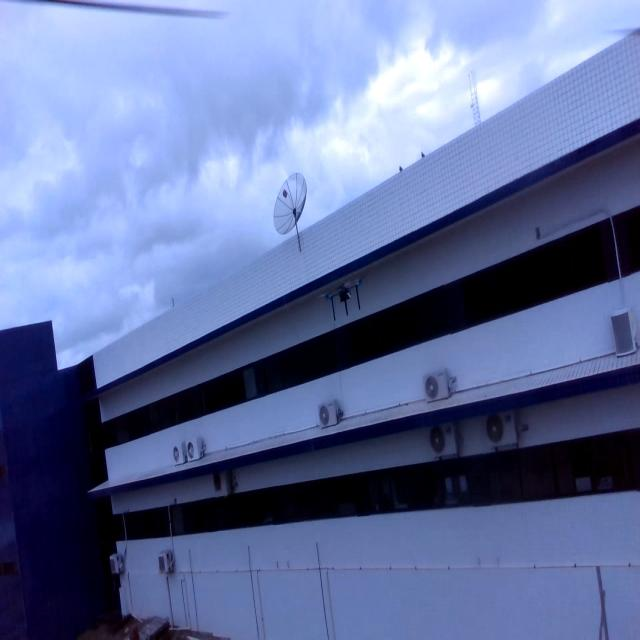-uav-: (322, 280, 372, 319)
